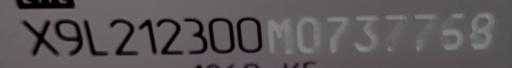letter: (20, 15, 60, 57), (106, 16, 140, 58), (466, 10, 498, 52), (155, 14, 185, 58), (54, 14, 84, 58), (234, 14, 266, 54), (264, 15, 296, 55), (437, 11, 467, 53), (292, 12, 322, 54), (82, 16, 110, 60), (351, 13, 381, 53), (207, 15, 237, 55), (411, 11, 439, 53), (382, 12, 410, 54), (180, 14, 208, 56), (323, 13, 351, 53), (136, 15, 160, 57)
